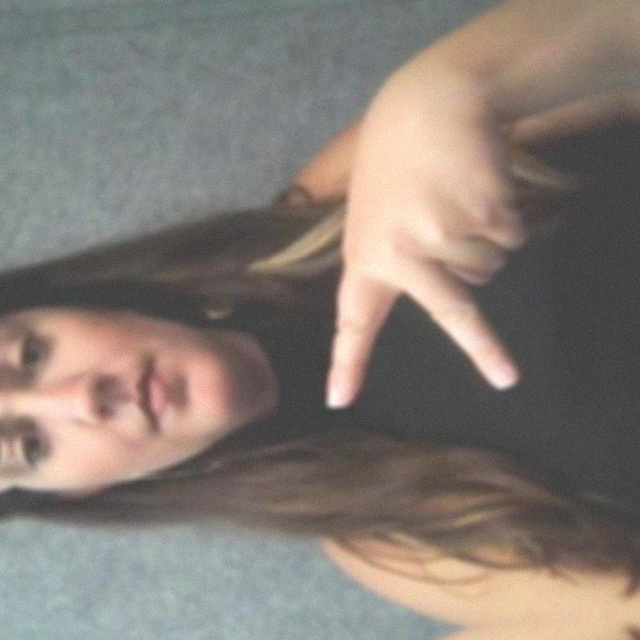Scissors: (264, 49, 611, 436)
